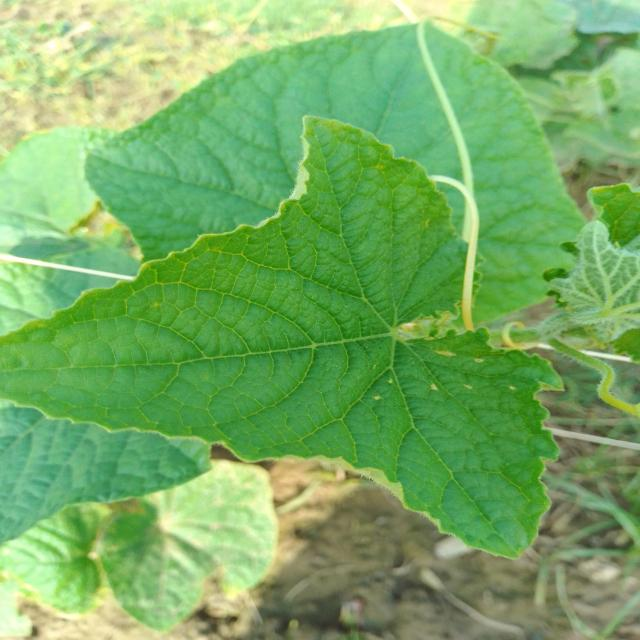cucumber_healthy: (0, 111, 568, 568), (78, 17, 590, 320)
